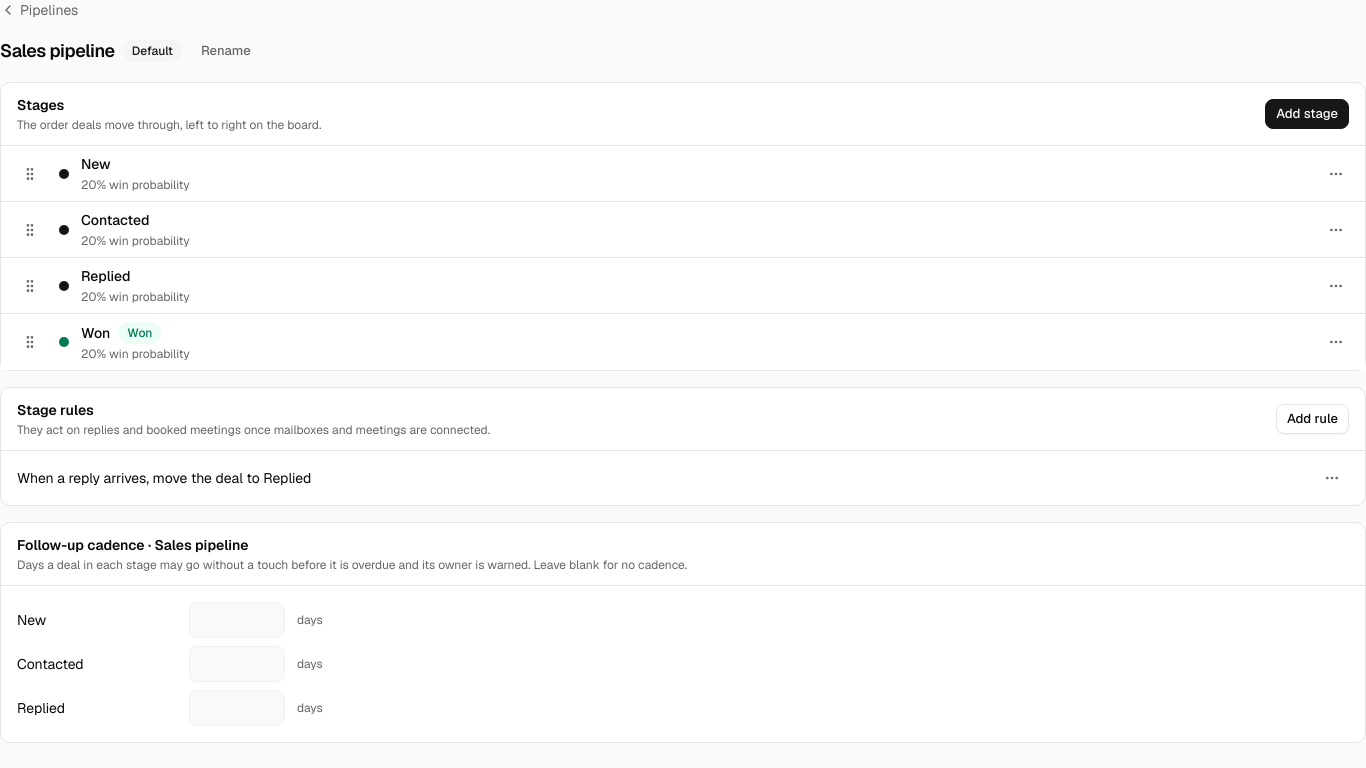
FR-CRMS-9: pipeline settings › FR-CRMS-9: a stage holding deals is deleted by moving them first — counts from the server, one request
Click the button named "Actions for Contacted": click(1336, 230) [1319,212,1353,246]
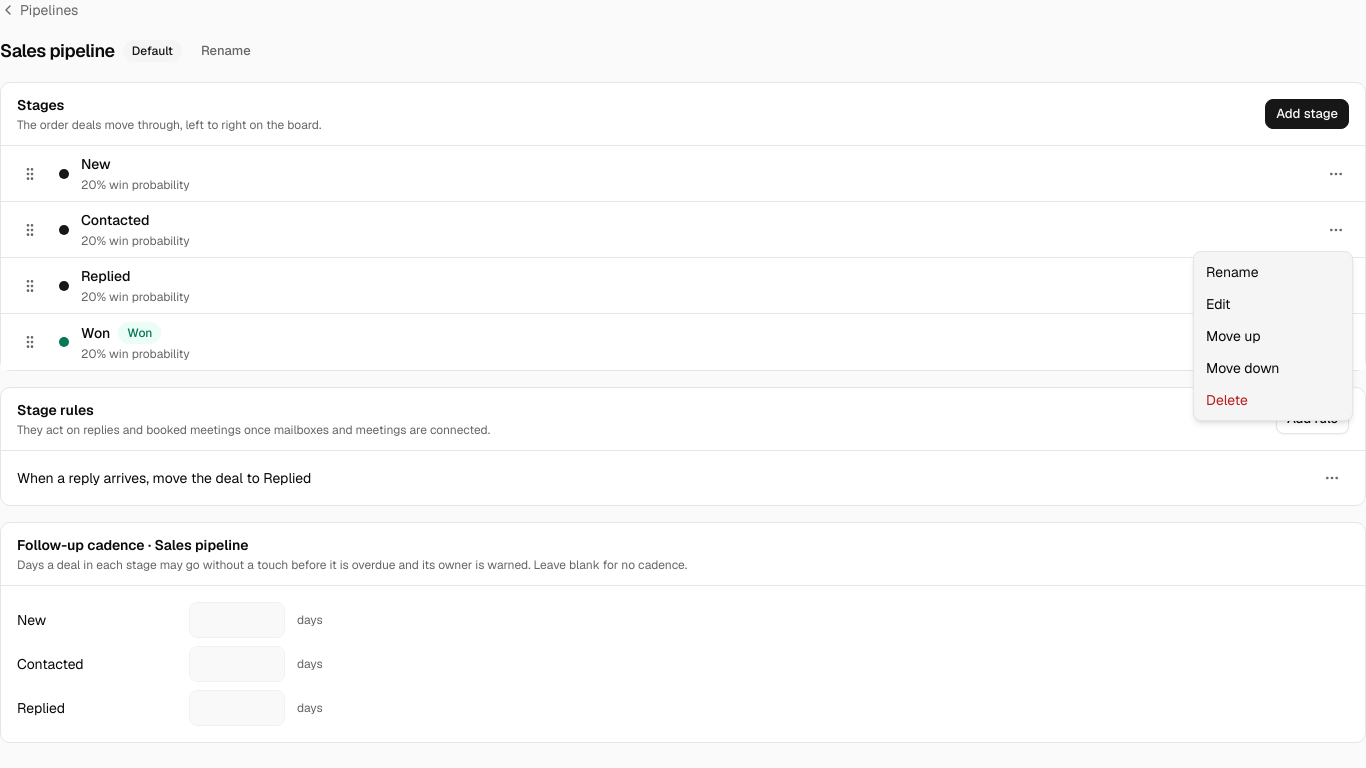
Click the menu item "Delete": click(1227, 400) [1206,391,1248,409]
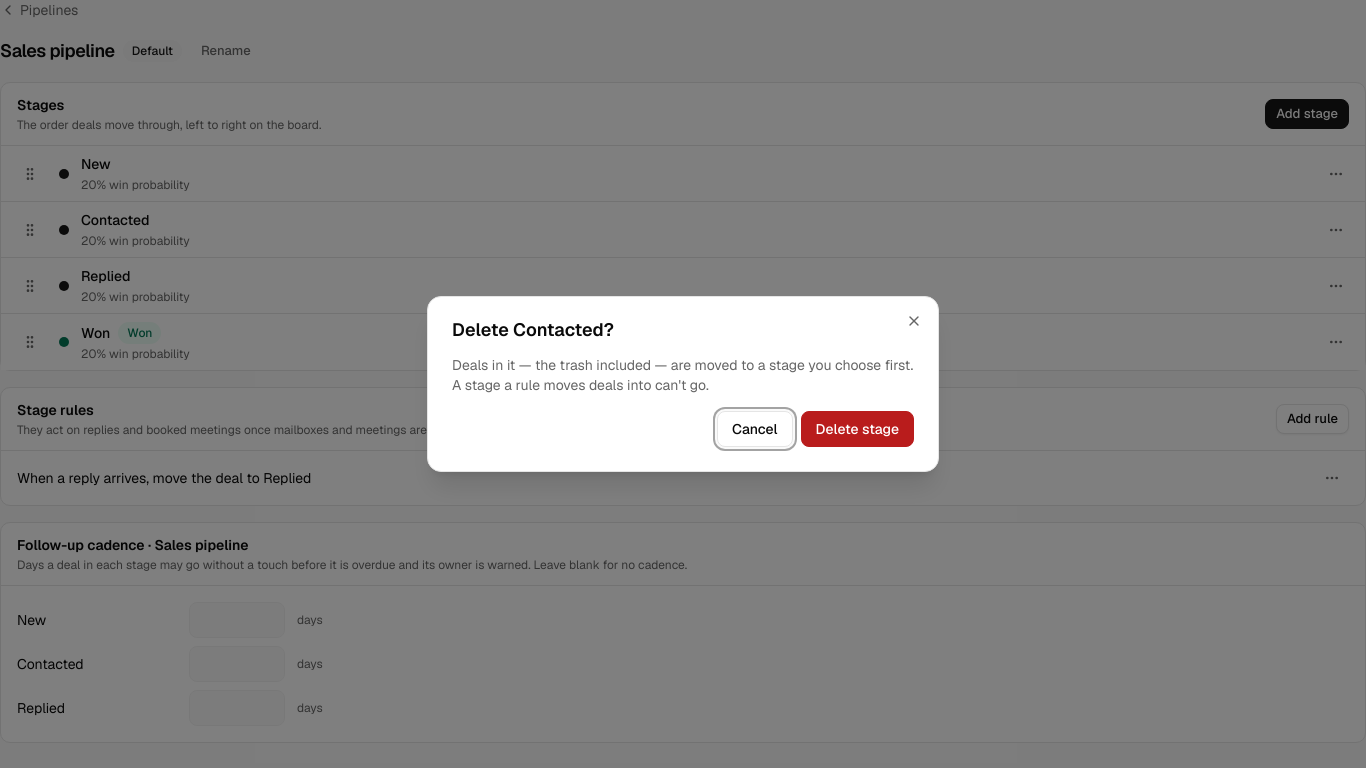
Click the button "Delete stage": click(857, 429) [801,411,914,447]
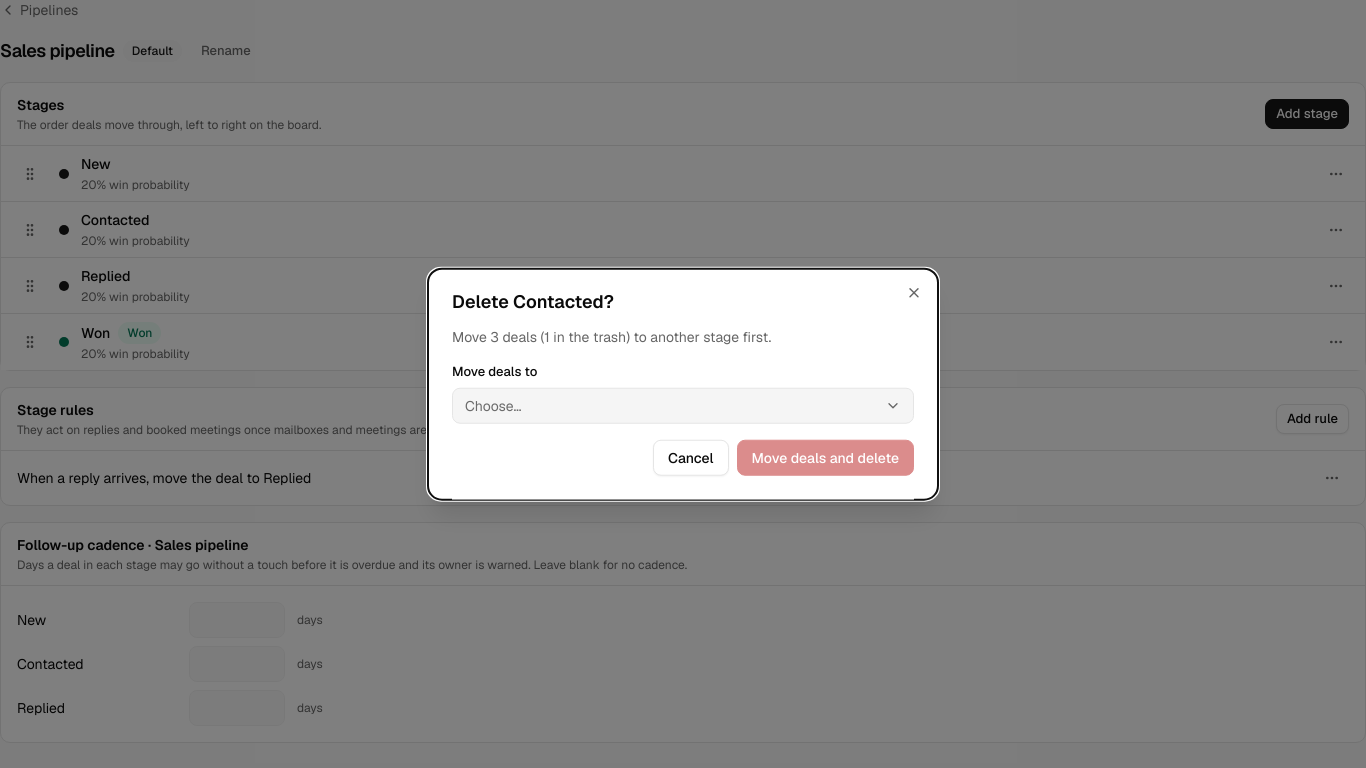
Check: the text "Move 3 deals (1 in the trash) to another stage first." is shown, box [452,328,771,346]
Note: Only open stages other than the one going: a delete never closes deals.
Click the dropdown named "Move deals to": click(493, 405) [452,387,914,423]
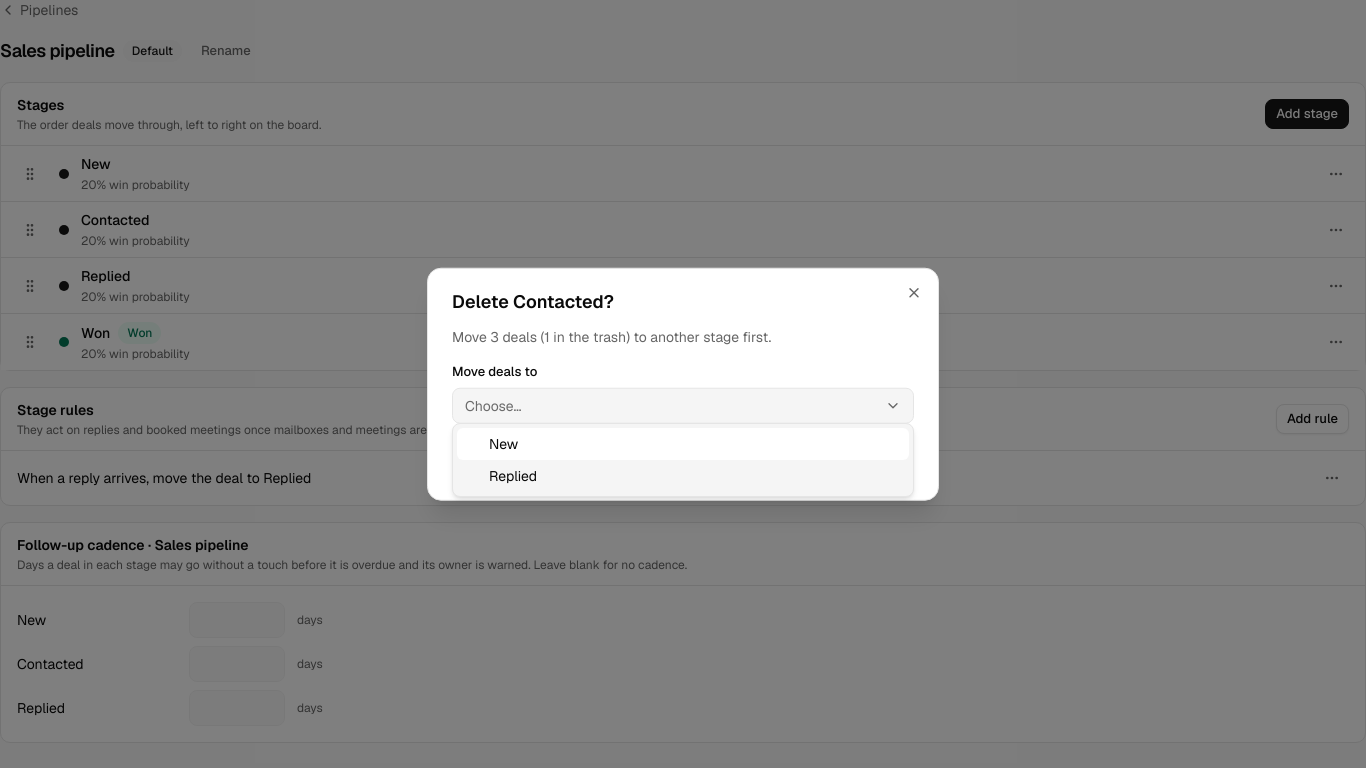
Check: the options read "New", "Replied", in this order
Click the option "Replied": click(513, 476) [489,467,537,485]
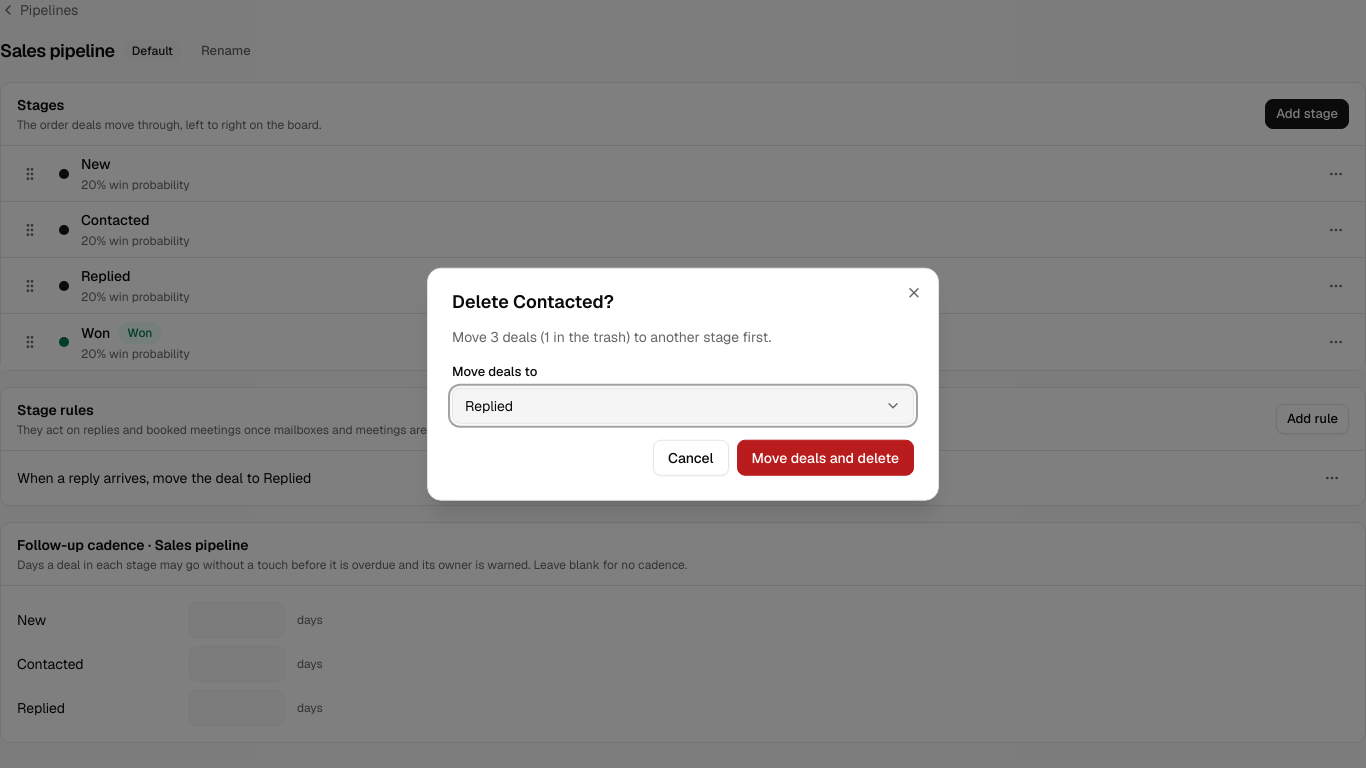
Click the button "Move deals and delete": click(825, 457) [736,439,914,475]
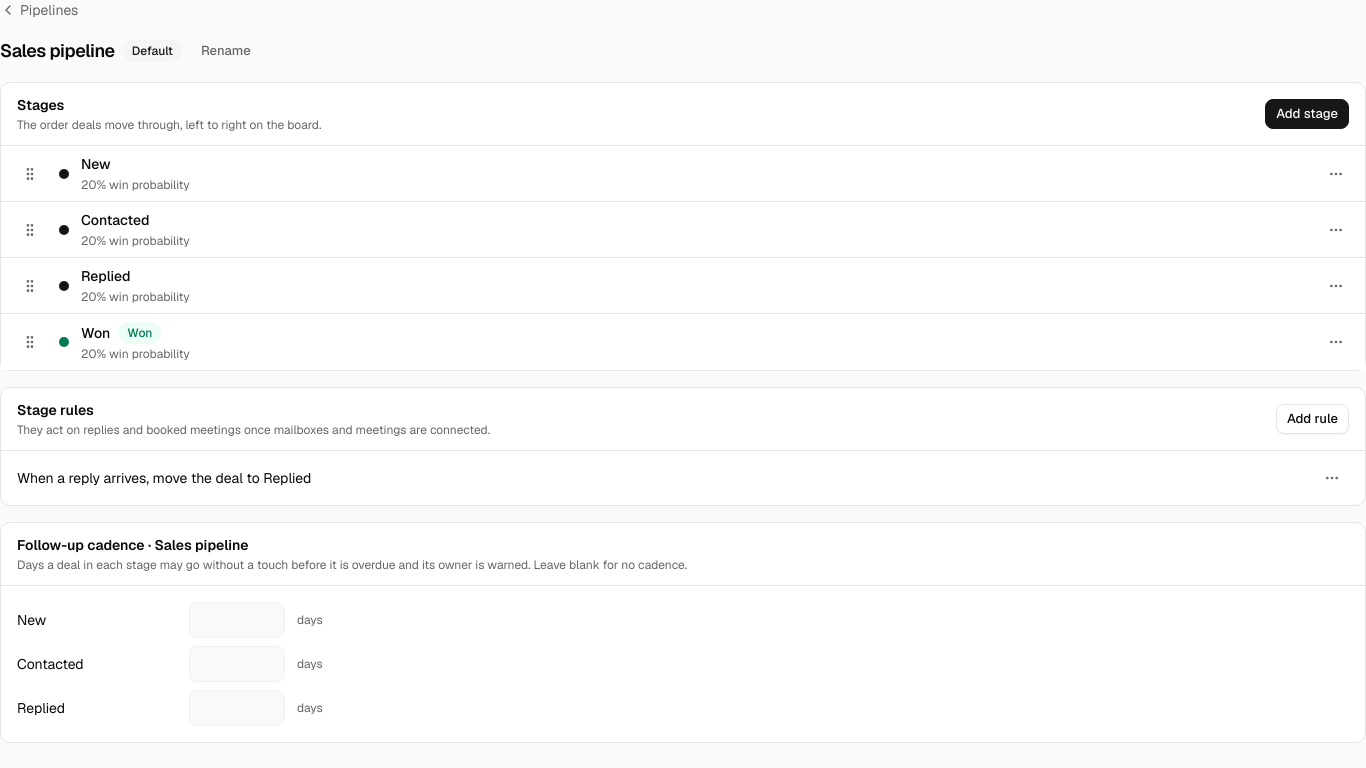
Check: the dialog is gone
